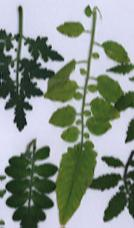Tomato leaf: (52, 144, 99, 228), (43, 100, 83, 136), (49, 14, 88, 44), (46, 59, 82, 91), (45, 80, 80, 107), (97, 39, 129, 68), (97, 74, 123, 108), (87, 103, 119, 126), (82, 117, 113, 140)
